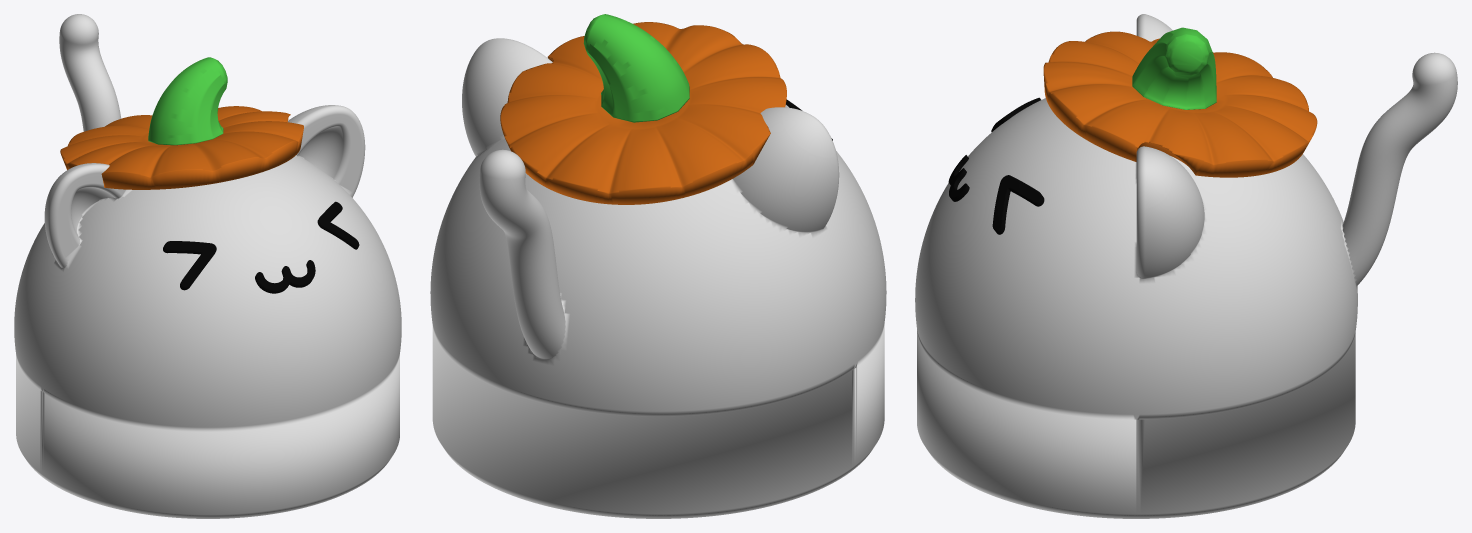
The model's file is cat-pum2.glb.
3 renders of one model, left to right at view 1: azimuth 30°, elevation 25°; view 2: azimuth 150°, elevation 25°; view 3: azimuth 270°, elevation 25°, orthographic. The views are drawn at different scales.
Parts seen in each view (by area): view 1: >.<; view 2: >.<; view 3: >.<.
Boxes of the visible parts, box(x1,y1,x2,y2) form: >.<: box(14, 14, 401, 518); >.<: box(430, 14, 886, 518); >.<: box(915, 14, 1457, 518).
Bounding box in the file's own units: 29.75 × 30.32 × 36.46.
